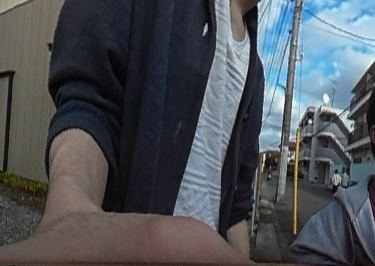person: (340, 167, 349, 186), (332, 167, 340, 186)
